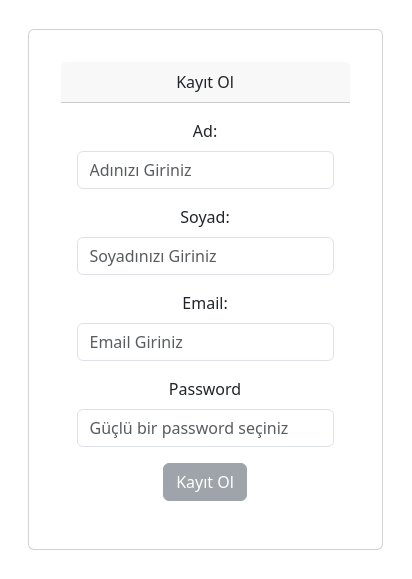
Test: Register Page › Error Messages › Email input throws error for 2 chars
The image size is (412, 579).
Type "sasas" into the field with test id "email-input" at (206, 342), box [77,323,334,361]
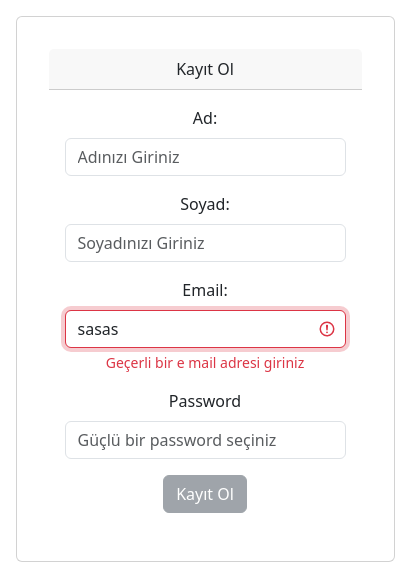
Expected: the text "Geçerli bir e mail adresi giriniz" is shown, [106,353,304,372]
